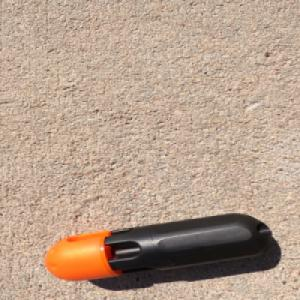PlasticPart: (41, 213, 273, 282)
